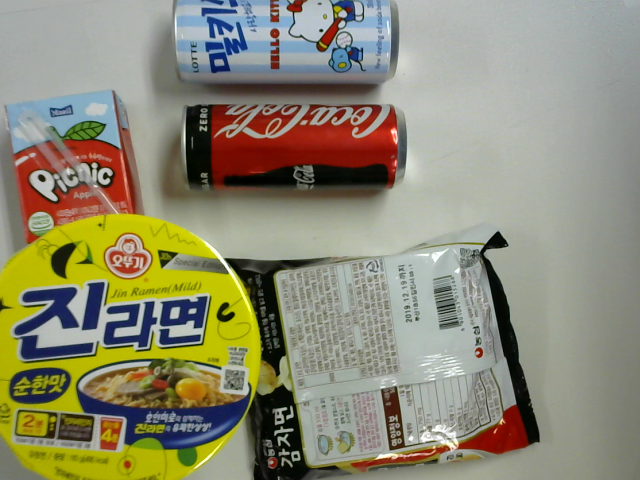Coca_Cola_Zero_Can_250ml: (161, 91, 438, 197)
Jinlamyeon_Mild_Taste_Large_Cup: (1, 212, 252, 474)
Milkies_250ml: (155, 1, 412, 89)
Picnic_Apple: (1, 85, 152, 242)
Potato: (226, 230, 568, 480)
